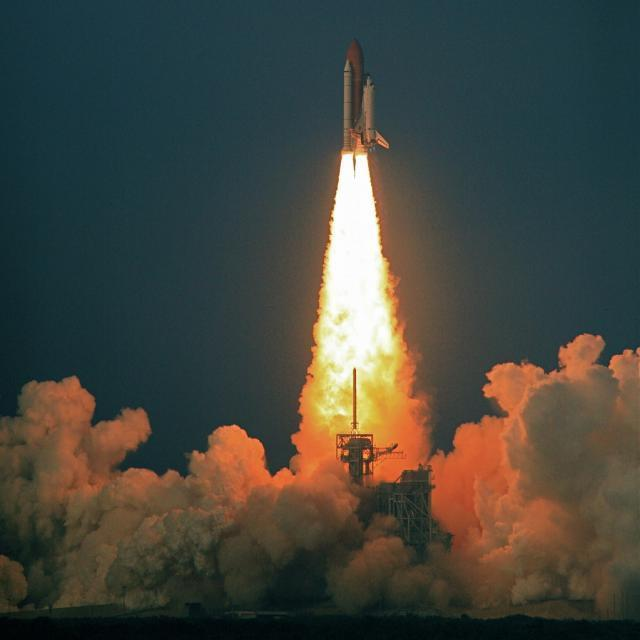missile: (340, 58, 353, 158), (361, 69, 376, 147)
